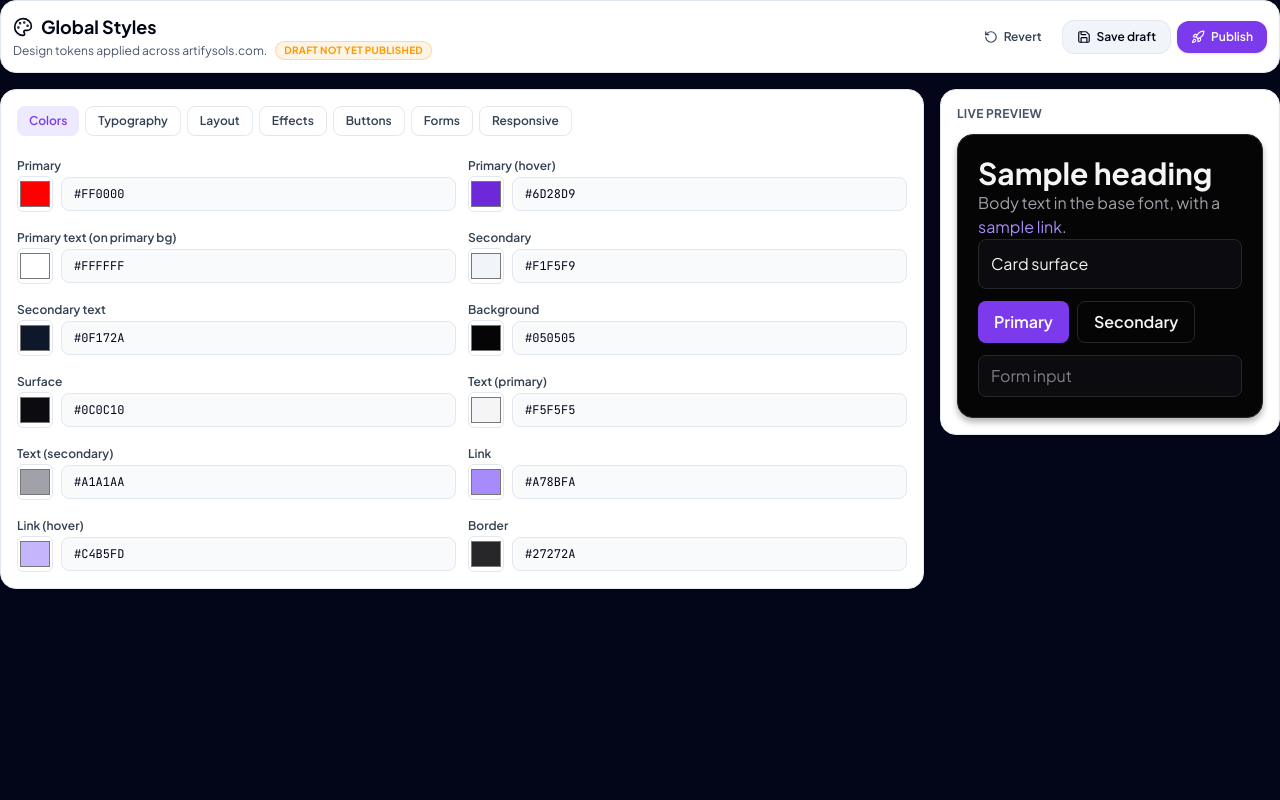
Test: GlobalStylesPage › revert asks for confirmation and resets the draft to the published value
Check: the button "Colors" is shown, box x1=17 y1=106 x2=79 y2=136
Check: the 1st field showing "#FF0000" is shown, box x1=61 y1=177 x2=456 y2=211
Click the button "Revert" at coordinates (1013, 37), box x1=970 y1=21 x2=1056 y2=53
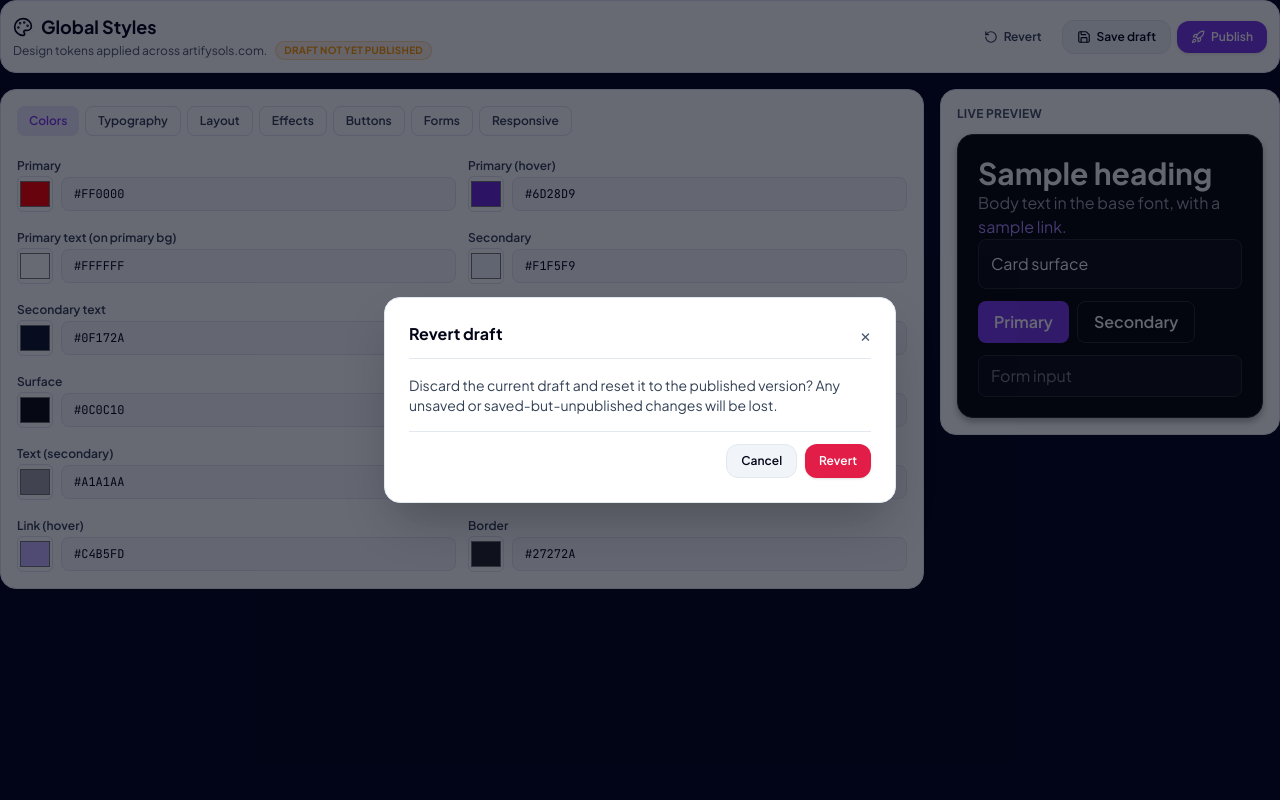
Click the button "Revert" at coordinates (838, 461), box x1=805 y1=444 x2=871 y2=478
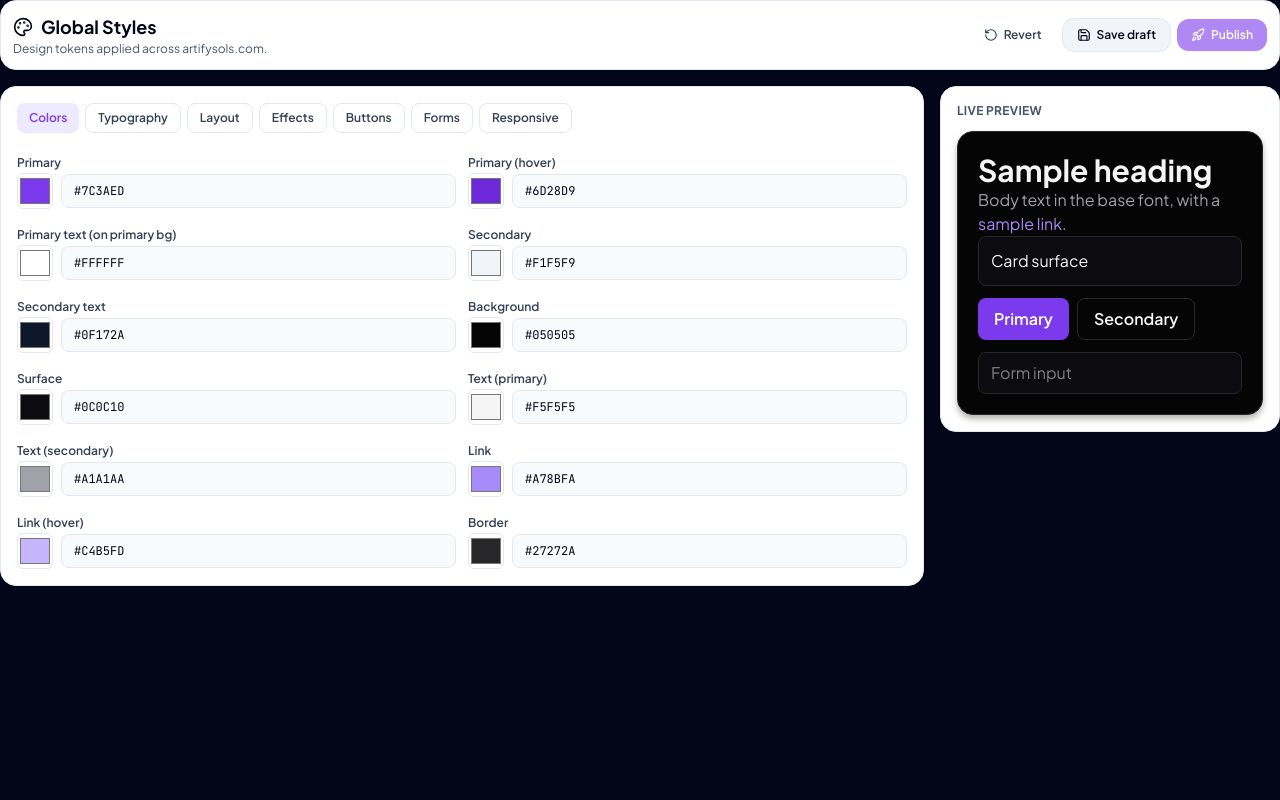
Check: the 1st field showing "#7C3AED" is shown, box x1=61 y1=174 x2=456 y2=208
